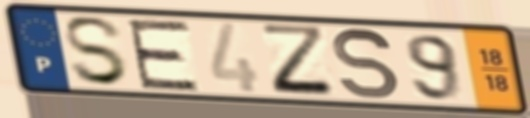4: (207, 20, 264, 96)
9: (404, 32, 465, 102)
E: (124, 18, 203, 93)
S: (330, 25, 403, 103), (60, 15, 133, 88)
Z: (257, 22, 341, 100)
